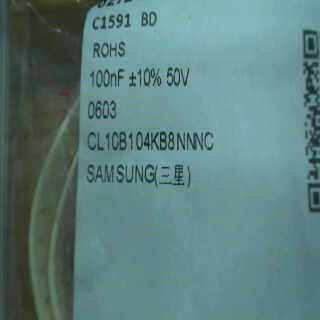100nF: (87, 61, 127, 95)
